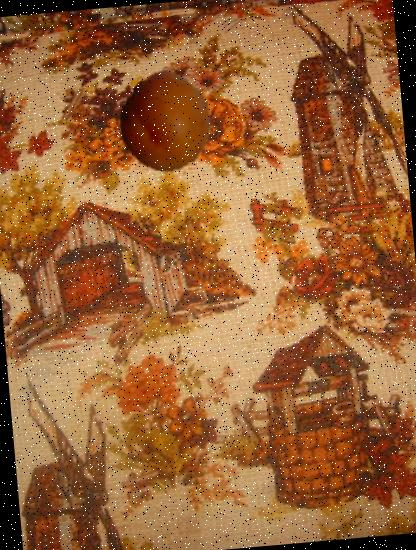Apricot: (113, 71, 218, 175)
